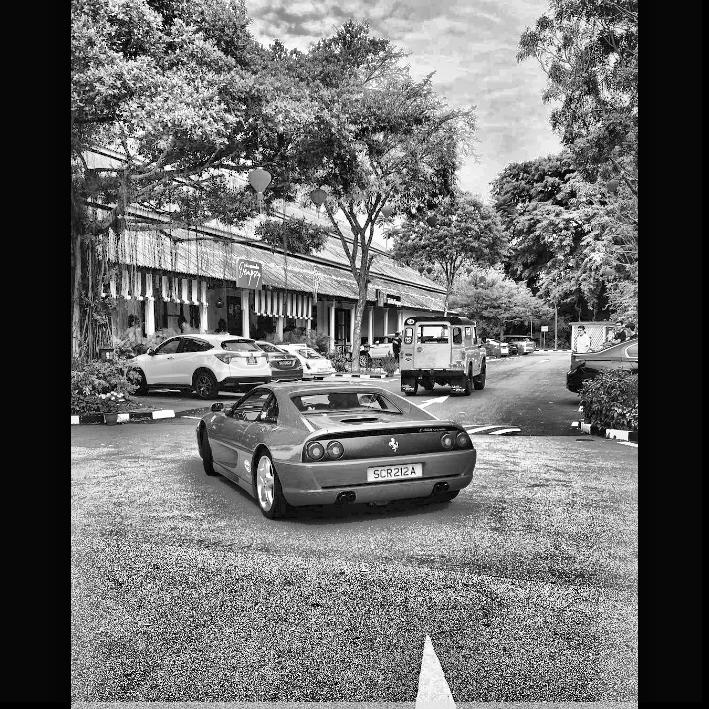License-Plates: (367, 464, 421, 481), (452, 360, 464, 366)
